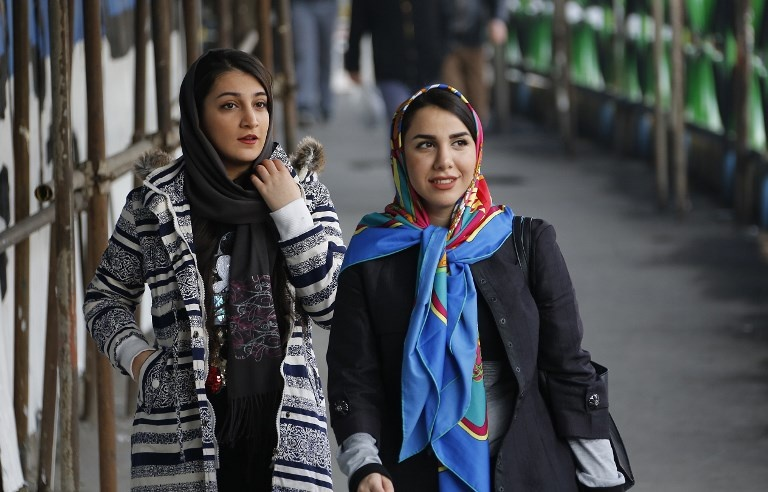without_mask: (400, 101, 482, 205), (190, 71, 274, 158)
